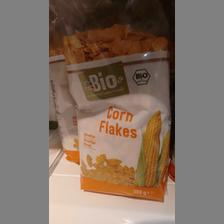Cerealien: (58, 22, 172, 202)
